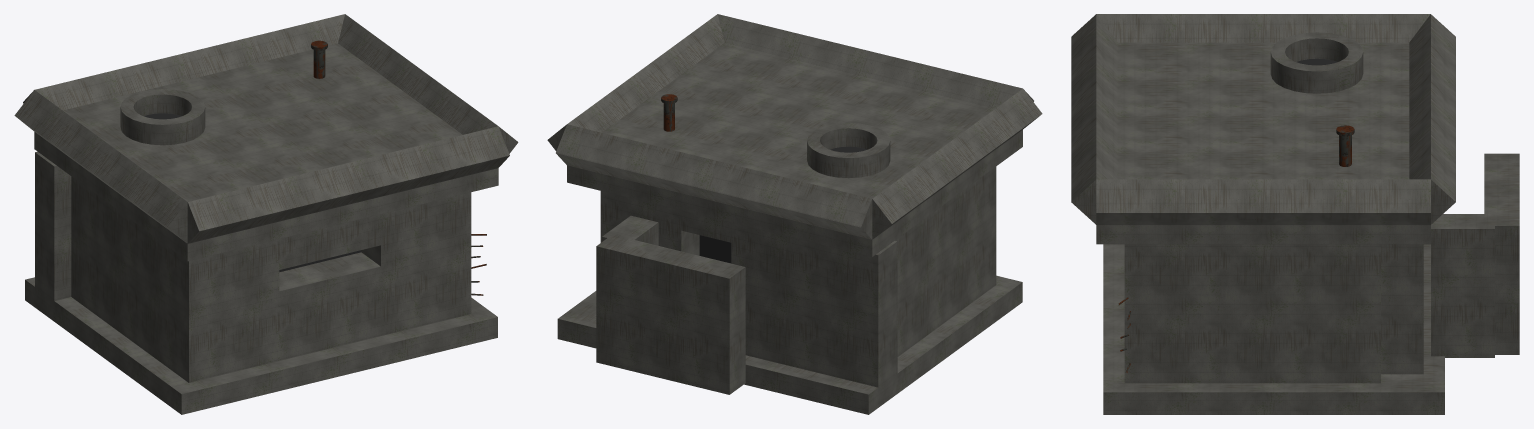
The model's file is concrete_bunker.glb.
3 views of the same model, side by side, from view 1: azimuth 30°, elevation 25°; view 2: azimuth 150°, elevation 25°; view 3: azimuth 270°, elevation 25° (orthographic). The views are drawn at different scales.
Visible parts, largest first — view 1: Concrete_Bunker; view 2: Concrete_Bunker; view 3: Concrete_Bunker.
Boxes of the visible parts, <box> form: Concrete_Bunker: <box>14,14,518,414</box>; Concrete_Bunker: <box>547,14,1042,414</box>; Concrete_Bunker: <box>1071,14,1519,414</box>.
Bounding box in the file's own units: 6.21 × 3.87 × 6.3.
Materials: 3 (2 with a texture image).
